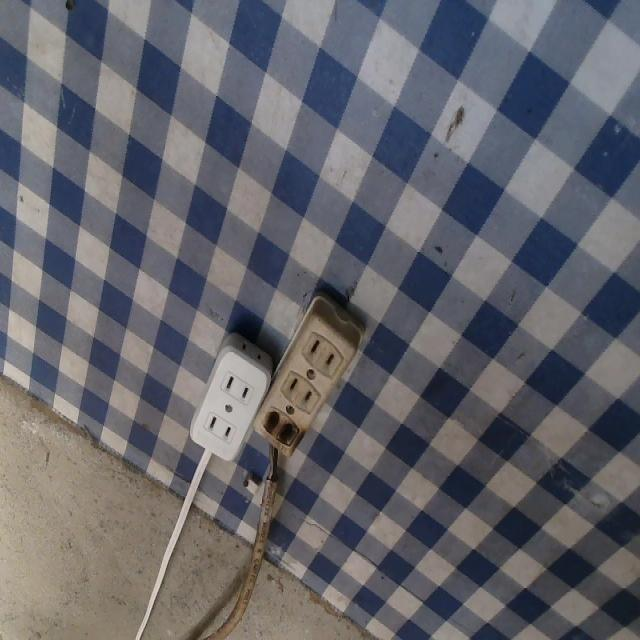-: (254, 399, 310, 456)
